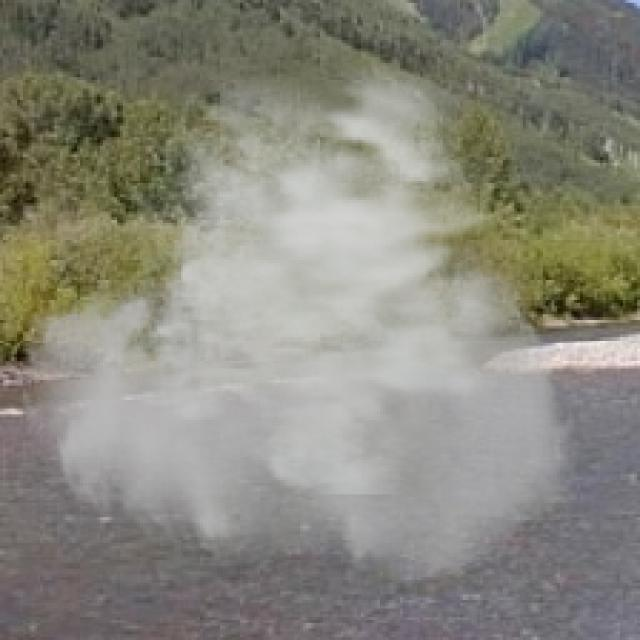smoke: (14, 37, 583, 586)
